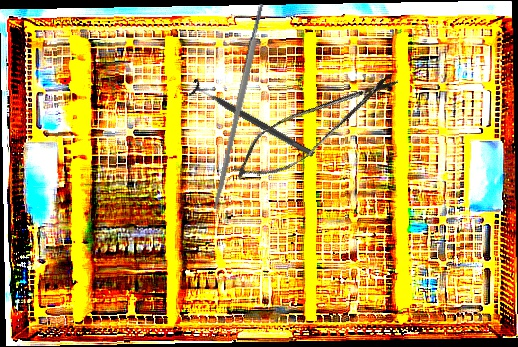Fixation Ring: (185, 77, 319, 165)
Micro Scissor: (223, 56, 407, 195)
Scalpel Handle: (210, 3, 268, 210)
